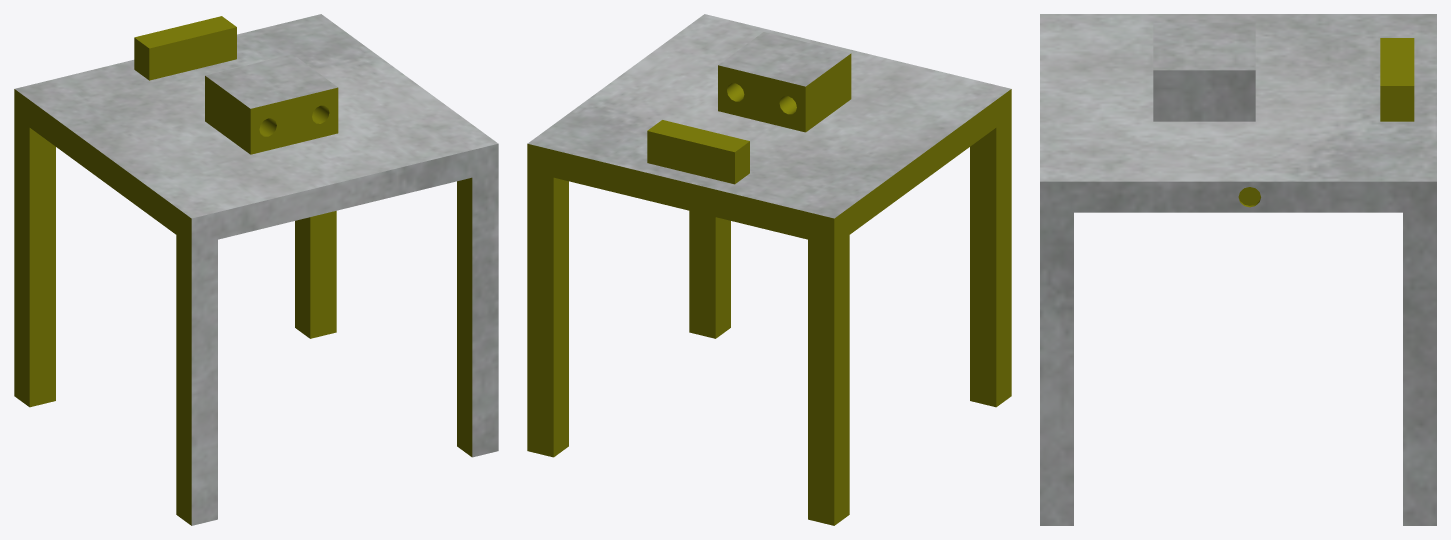
3 views of the same model, side by side, from view 1: azimuth 30°, elevation 25°; view 2: azimuth 150°, elevation 25°; view 3: azimuth 270°, elevation 25° (orthographic). The views are drawn at different scales.
Parts seen in each view (by area): view 1: meshparentnode (×12); view 2: meshparentnode (×12); view 3: meshparentnode (×6).
Part boxes in pixels (<box>): meshparentnode (×12): <box>14,14,498,525</box>; meshparentnode (×12): <box>527,14,1011,525</box>; meshparentnode (×6): <box>1040,14,1436,525</box>.
Size of the model in its own units: 0.35 by 0.35 by 0.385.
7 materials, 6 textured.
